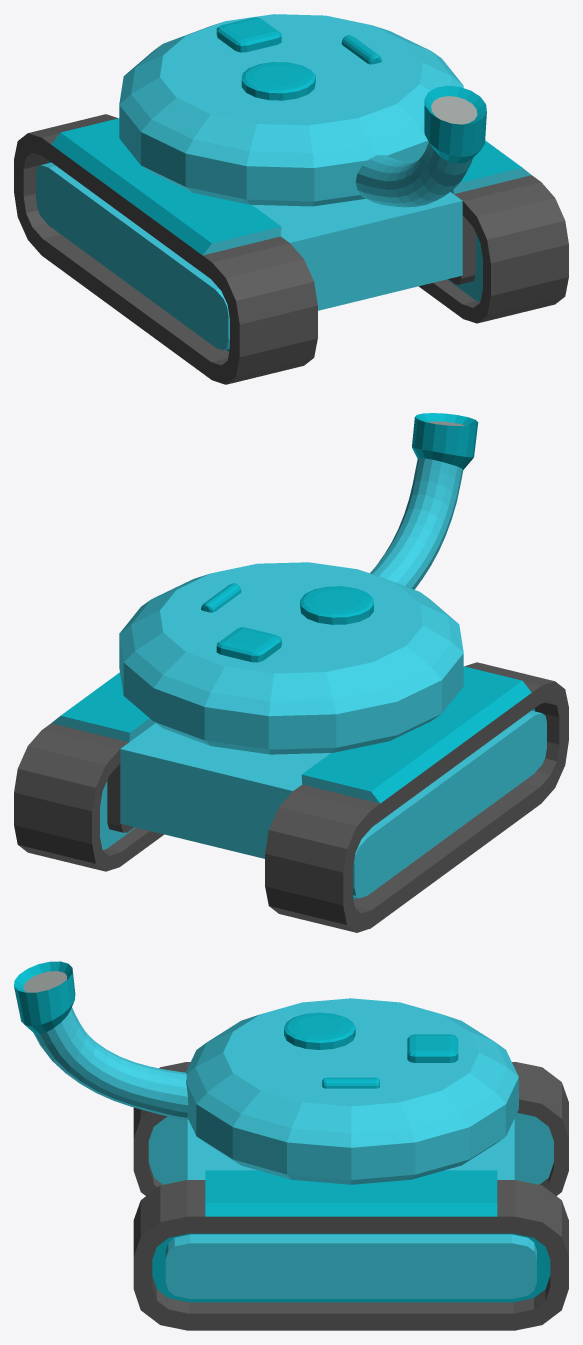
The model's file is tanks1_twisted.fbx.
3 views of the same model, one above another, from view 1: azimuth 30°, elevation 25°; view 2: azimuth 150°, elevation 25°; view 3: azimuth 270°, elevation 25° (orthographic). The views are drawn at different scales.
Visible parts, largest first — view 1: Tank1_twisted, Tank1_Turret_twisted; view 2: Tank1_twisted, Tank1_Turret_twisted; view 3: Tank1_twisted, Tank1_Turret_twisted.
Part boxes in pixels (x1=…): Tank1_twisted: x1=14, y1=114, x2=568, y2=384; Tank1_Turret_twisted: x1=119, y1=14, x2=486, y2=207; Tank1_twisted: x1=14, y1=662, x2=568, y2=932; Tank1_Turret_twisted: x1=119, y1=413, x2=478, y2=754; Tank1_twisted: x1=133, y1=1062, x2=568, y2=1330; Tank1_Turret_twisted: x1=14, y1=961, x2=518, y2=1184.
Size of the model in its own units: 3.81 by 3.27 by 5.76.
